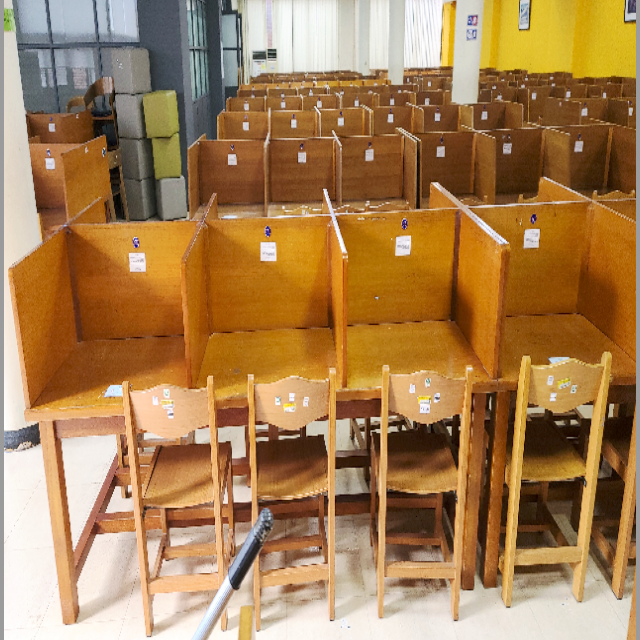empty: (15, 236, 190, 480), (195, 230, 352, 481), (359, 230, 499, 474)
